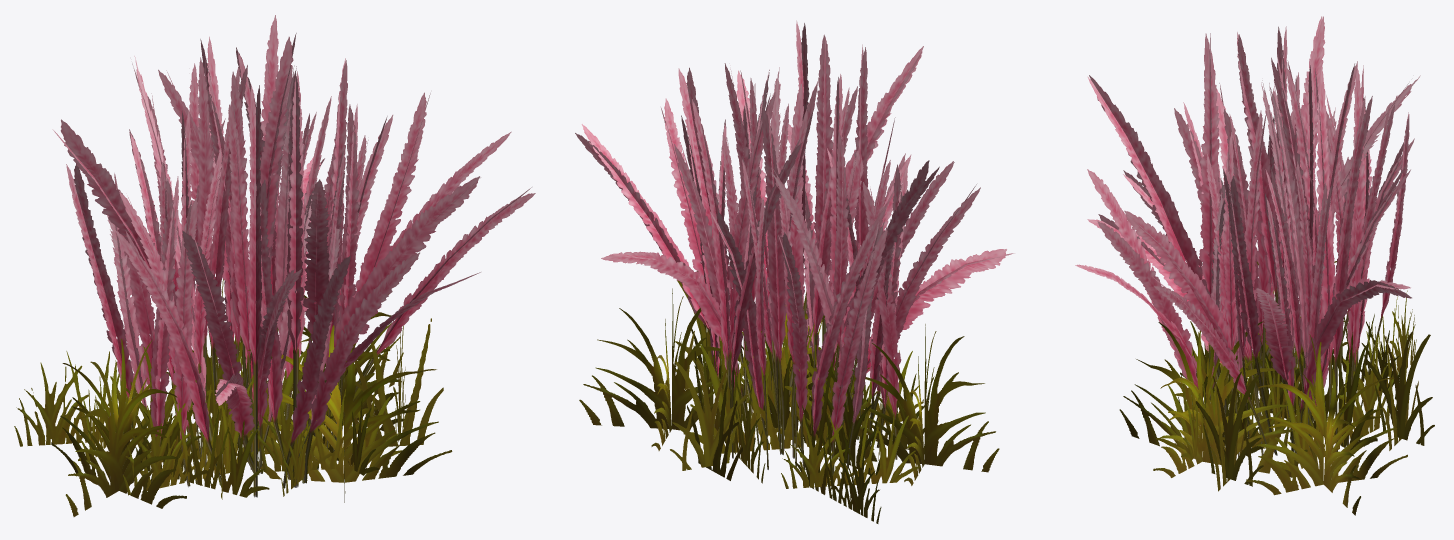
File: Fall_PinkMuhly_01.FBX
The picture shows the model from 3 angles, left to right: view 1: azimuth 30°, elevation 25°; view 2: azimuth 150°, elevation 25°; view 3: azimuth 270°, elevation 25°; orthographic projection. The views are drawn at different scales.
Parts seen in each view (by area): view 1: Fall_PinkMuhly_01; view 2: Fall_PinkMuhly_01; view 3: Fall_PinkMuhly_01.
Part boxes in pixels (x1,y1,x2,y2): Fall_PinkMuhly_01: (14,15,535,516); Fall_PinkMuhly_01: (575,20,1014,523); Fall_PinkMuhly_01: (1075,16,1434,515).
Bounding box in the file's own units: 81.52 × 74.4 × 60.37.
